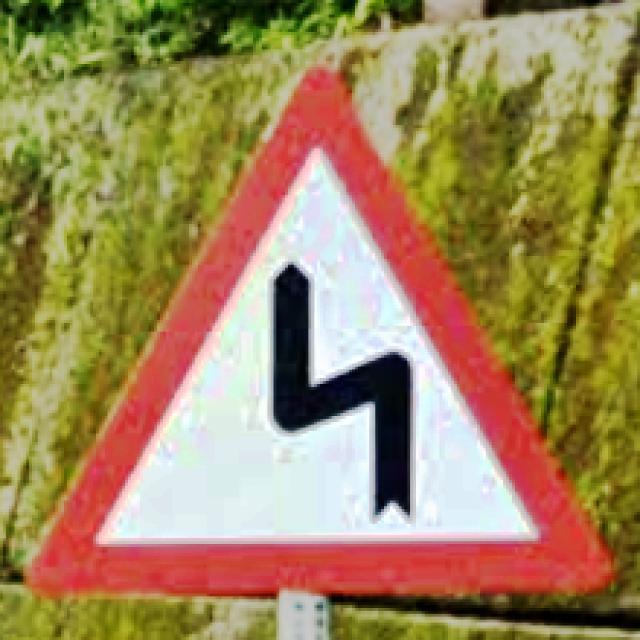doublebendleft: (29, 64, 614, 602)
